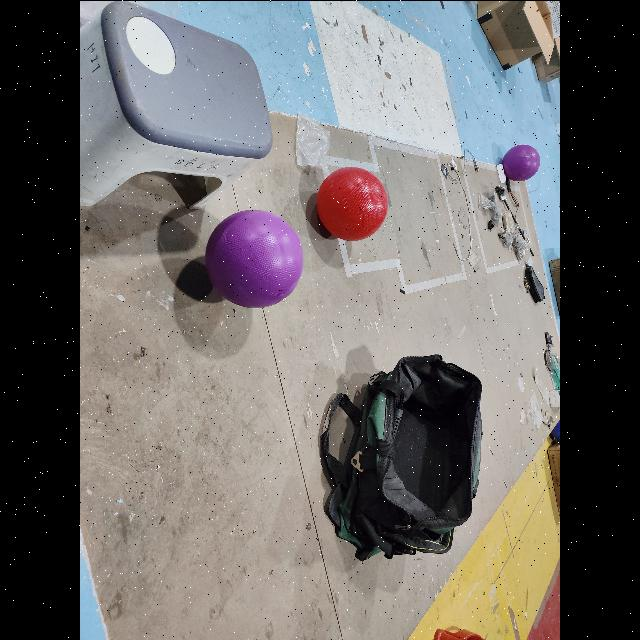P: (204, 208, 304, 308), (502, 143, 540, 181)
R: (313, 167, 389, 240)
